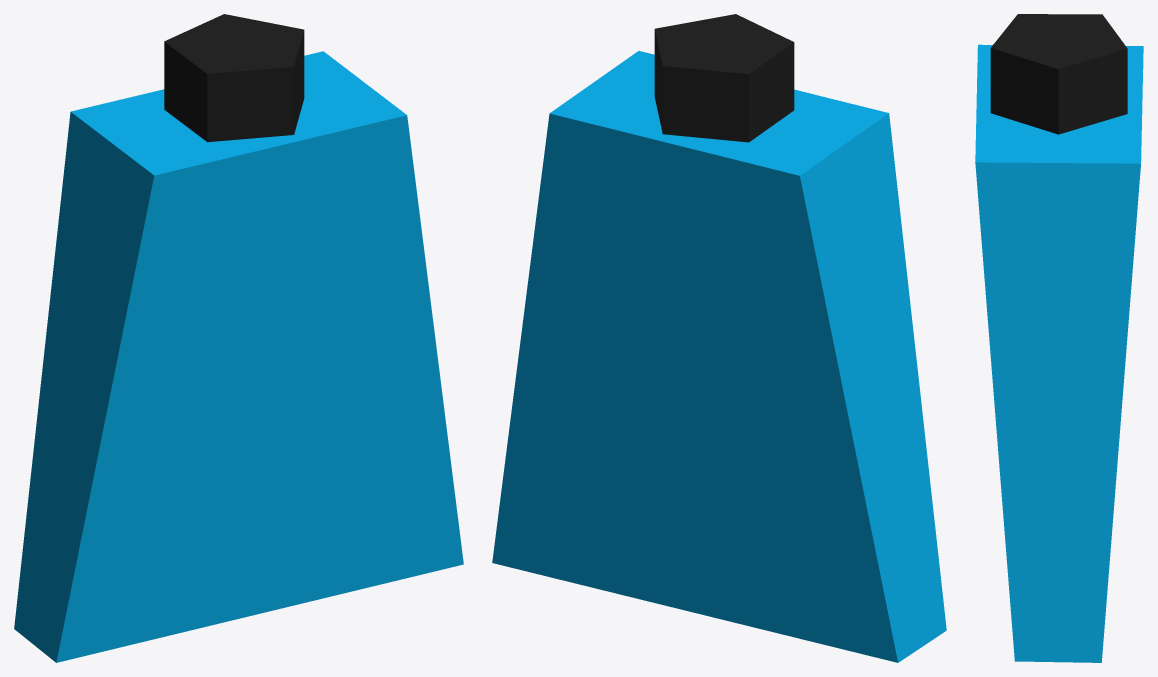
The model's file is prop_060.glb.
The picture shows the model from 3 angles, left to right: view 1: azimuth 30°, elevation 25°; view 2: azimuth 150°, elevation 25°; view 3: azimuth 270°, elevation 25°; orthographic projection. The views are drawn at different scales.
Visible parts, largest first — view 1: prop_060; view 2: prop_060; view 3: prop_060.
Boxes of the visible parts, <box> form: prop_060: <box>14,14,463,662</box>; prop_060: <box>492,14,946,662</box>; prop_060: <box>975,14,1143,662</box>.
Bounding box in the file's own units: 0.1518 × 0.1952 × 0.0563.
1 material, 1 textured.
